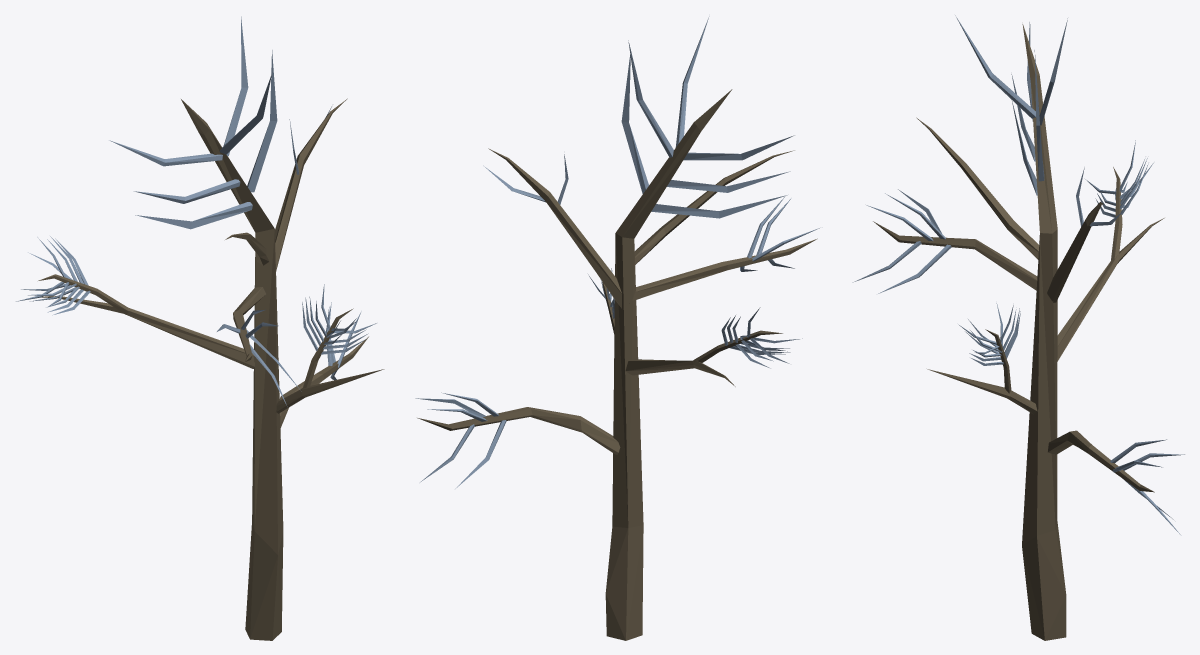
The model's file is Blue_Spruce_3_4.fbx.
The picture shows the model from 3 angles, left to right: view 1: azimuth 30°, elevation 25°; view 2: azimuth 150°, elevation 25°; view 3: azimuth 270°, elevation 25°; orthographic projection. The views are drawn at different scales.
Parts seen in each view (by area): view 1: Spurce_3_4; view 2: Spurce_3_4; view 3: Spurce_3_4.
Part boxes in pixels (<box>): Spurce_3_4: <box>16,16,384,640</box>; Spurce_3_4: <box>415,16,819,640</box>; Spurce_3_4: <box>852,15,1184,640</box>.
Bounding box in the file's own units: 182 × 290 × 144.
